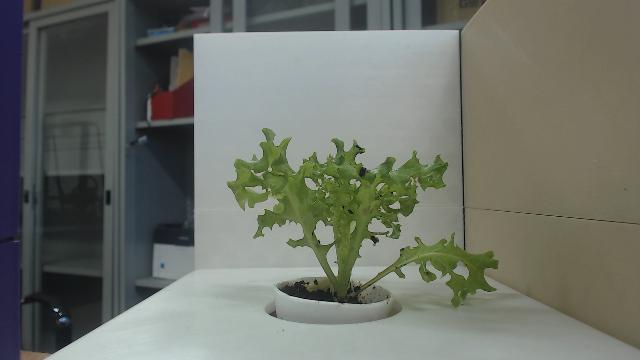Vegetative Stage: (226, 128, 498, 310)
